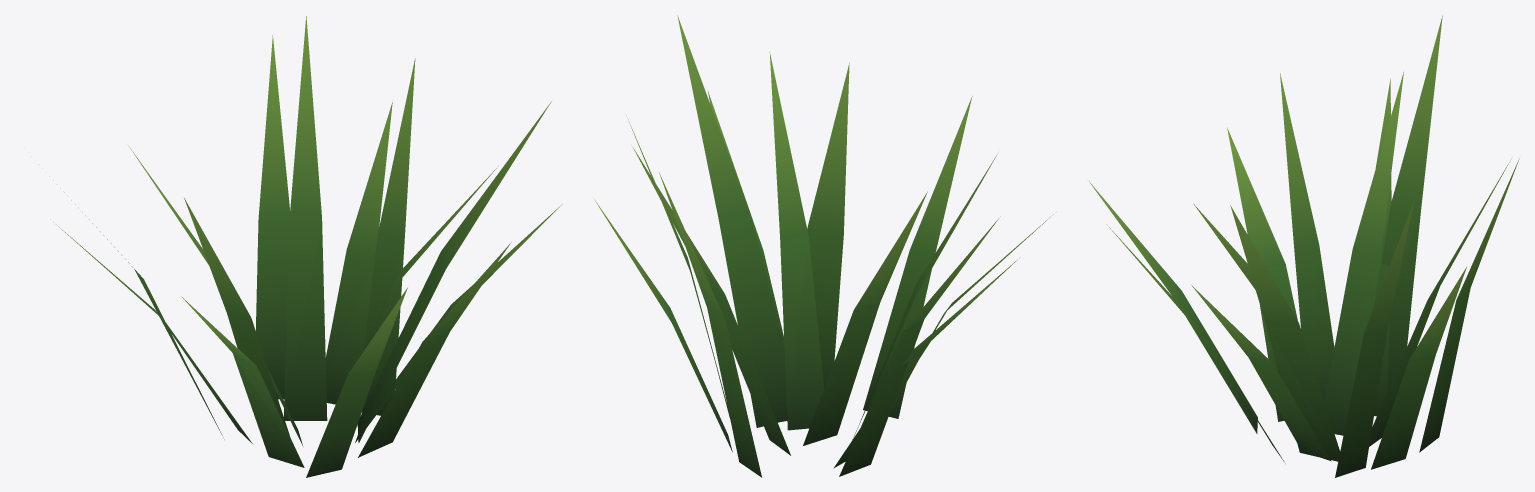
The model's file is grass_short_dense_01.glb.
The picture shows the model from 3 angles, left to right: view 1: azimuth 30°, elevation 25°; view 2: azimuth 150°, elevation 25°; view 3: azimuth 270°, elevation 25°; orthographic projection. The views are drawn at different scales.
Visible parts, largest first — view 1: grass_short_dense_01_mesh; view 2: grass_short_dense_01_mesh; view 3: grass_short_dense_01_mesh.
Part boxes in pixels (x1=…): grass_short_dense_01_mesh: x1=49, y1=16, x2=562, y2=477; grass_short_dense_01_mesh: x1=594, y1=15, x2=1053, y2=477; grass_short_dense_01_mesh: x1=1089, y1=15, x2=1519, y2=477.
Size of the model in its own units: 0.2158 by 0.1611 by 0.194.
